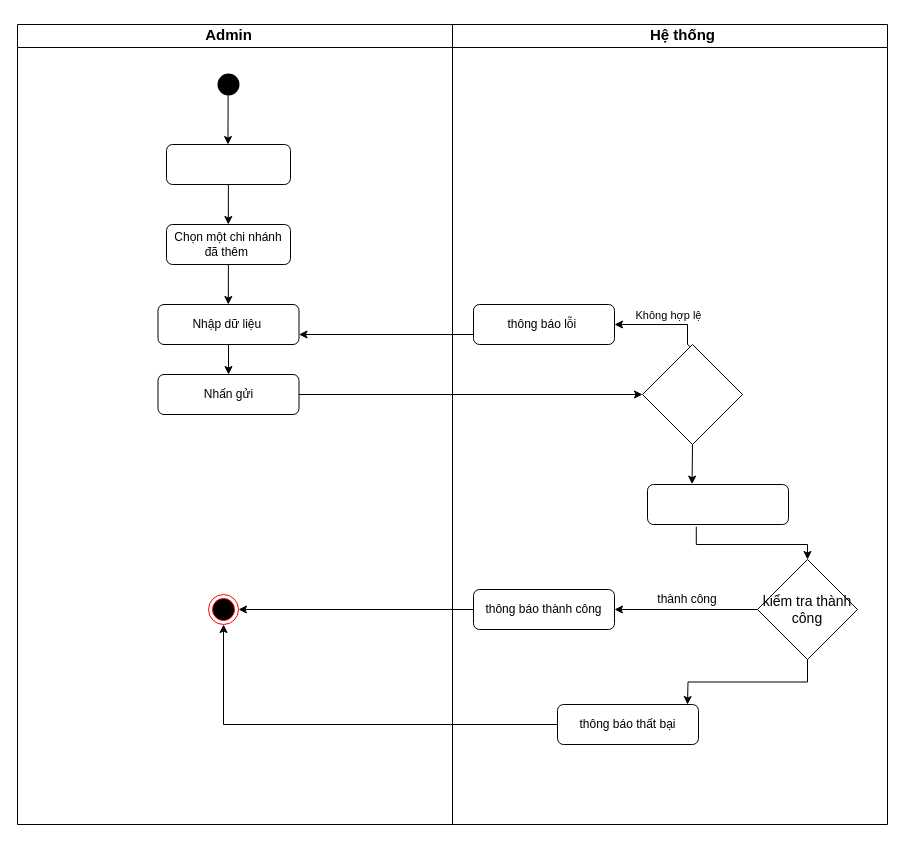
This 905x843 diagram has some shape labels left out. Here are the shapes that lost their labels. From the top down, the box of each, then its label:
(166, 144, 290, 184): Chọn chức năng quản lý không gian
(642, 344, 742, 444): kiểm tra dữ liệu
(646, 484, 788, 524): lưu dữ liệu vào CSDL
